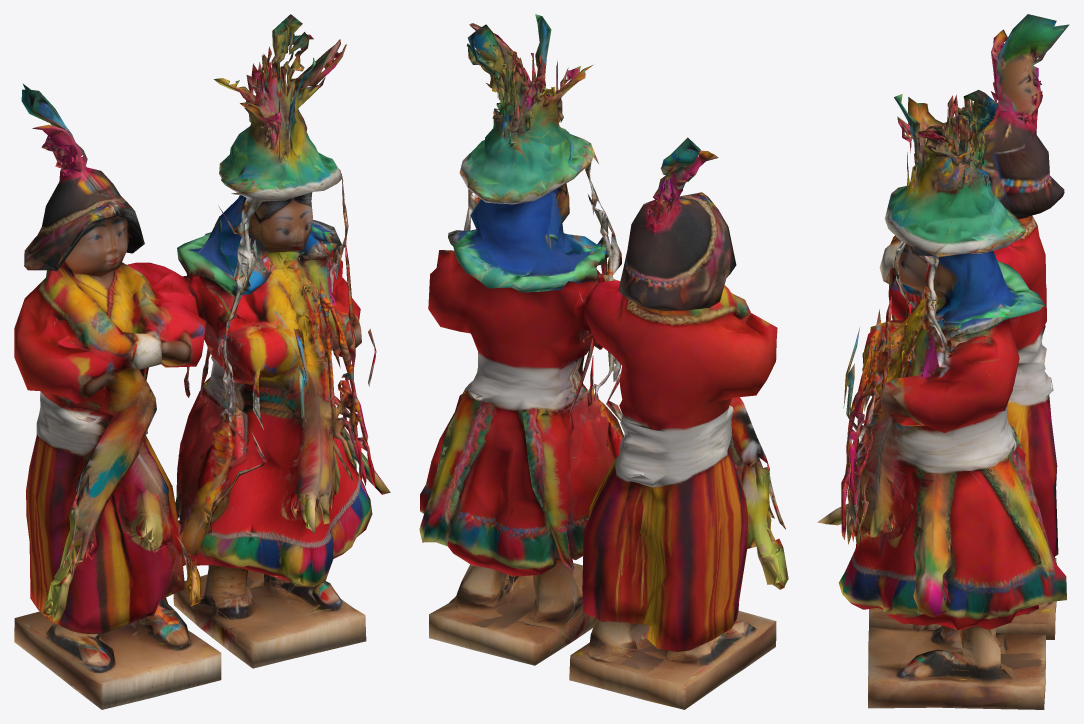
3 renders of one model, left to right at view 1: azimuth 30°, elevation 25°; view 2: azimuth 150°, elevation 25°; view 3: azimuth 270°, elevation 25°, orthographic. The views are drawn at different scales.
Bounding box in the file's own units: 1.22 × 1.98 × 0.7391.
1 material, 1 textured.
